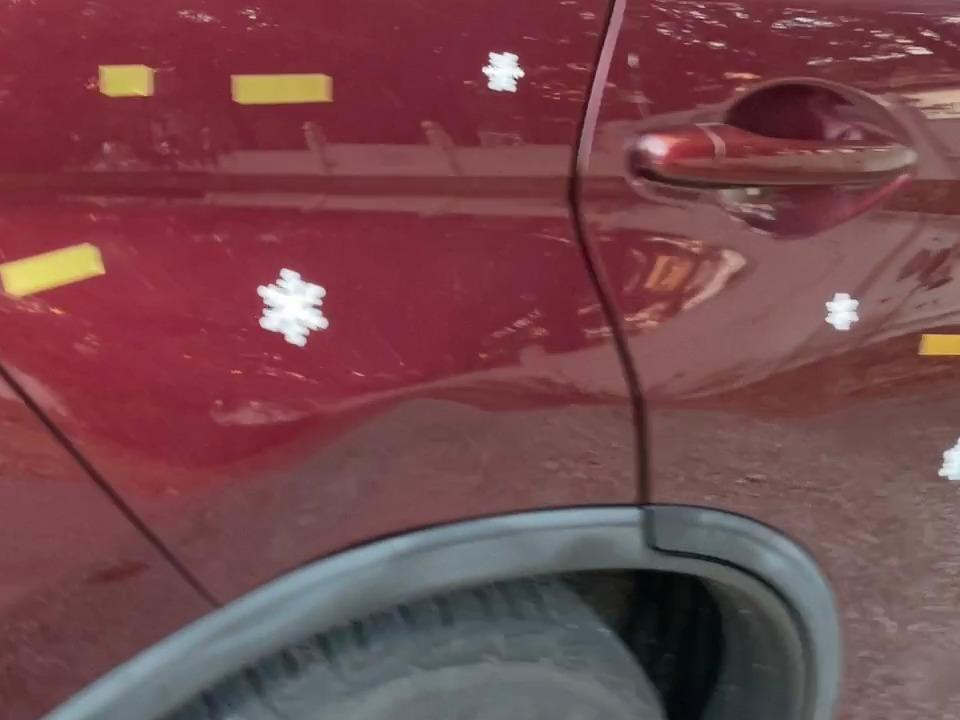dent: (253, 259, 340, 356), (817, 283, 871, 343), (477, 45, 528, 104)
scratch: (0, 234, 114, 308), (221, 63, 344, 113), (89, 57, 161, 105)
